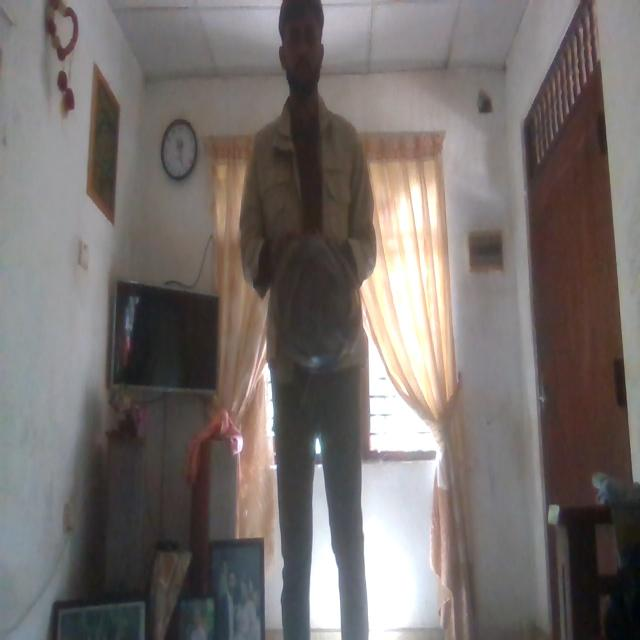Jacket_Wearer: (241, 93, 377, 378)
Person: (240, 5, 378, 640)
